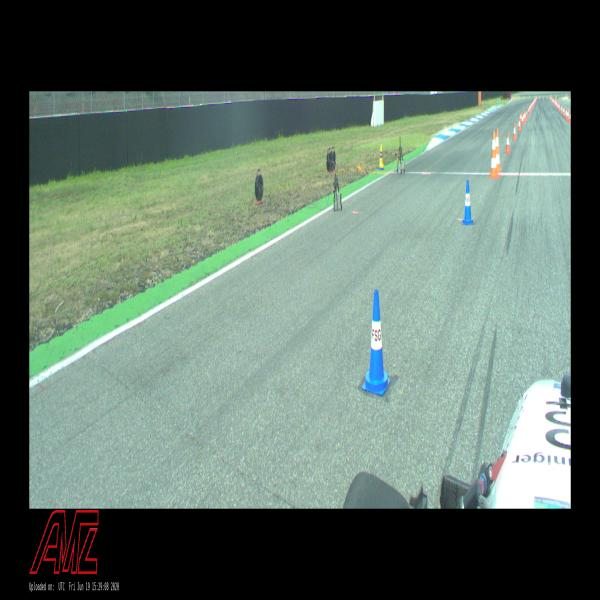blue_cone: (362, 289, 390, 396), (462, 180, 474, 225)
large_orange_cone: (489, 130, 499, 178), (495, 129, 502, 173)
orange_cone: (505, 132, 511, 154), (513, 124, 517, 140), (518, 117, 521, 131), (569, 111, 571, 123), (520, 112, 522, 123), (522, 114, 524, 125), (524, 112, 526, 123), (566, 108, 568, 119), (524, 111, 526, 121), (567, 110, 569, 120), (563, 106, 565, 116), (526, 109, 528, 117), (560, 105, 562, 113), (528, 107, 530, 114), (558, 104, 560, 110)
yellow_cone: (379, 144, 384, 168)
